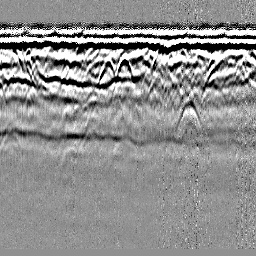cavity: (115, 52, 141, 84)
